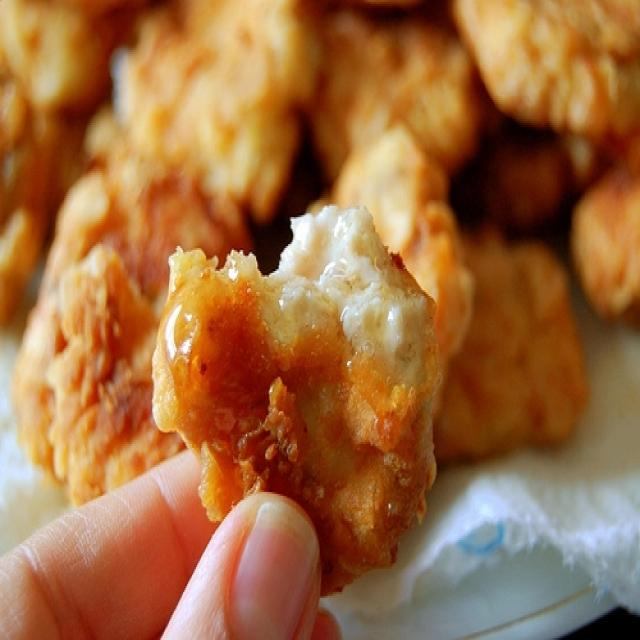鸡肉料理 含炸鸡: (1, 2, 634, 603)
